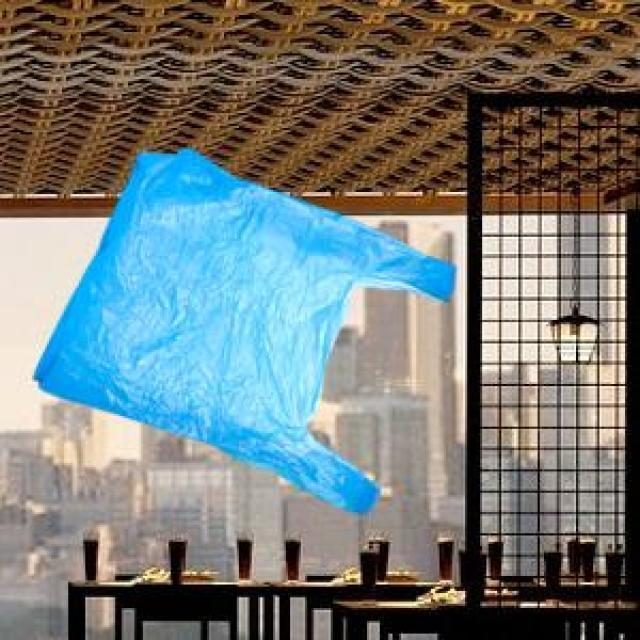waste: (35, 150, 452, 512)
